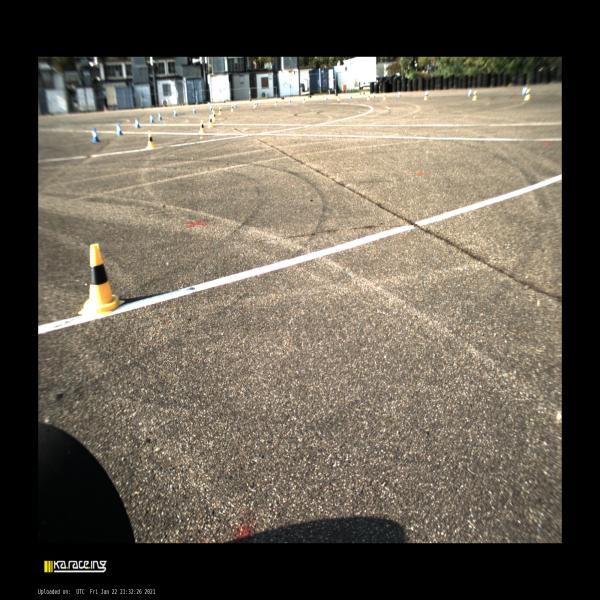blue_cone: (92, 126, 100, 142), (116, 122, 123, 136), (522, 86, 527, 96), (135, 118, 140, 128), (150, 114, 154, 123), (158, 112, 162, 120), (468, 88, 471, 96), (209, 104, 212, 112), (174, 109, 177, 116), (325, 94, 328, 100), (193, 106, 195, 114), (398, 91, 400, 98), (256, 99, 258, 106), (234, 101, 236, 108), (426, 90, 428, 96), (373, 92, 375, 98), (289, 96, 291, 102), (350, 93, 352, 98)
yellow_cone: (78, 244, 124, 318), (147, 131, 155, 149), (198, 119, 206, 134), (524, 88, 530, 100), (208, 115, 213, 128), (423, 92, 428, 101), (212, 111, 216, 122), (230, 104, 235, 112), (473, 90, 476, 101), (218, 107, 222, 114), (211, 109, 214, 118), (274, 100, 278, 106), (383, 93, 386, 100), (253, 102, 256, 108), (337, 96, 340, 101), (367, 95, 370, 100), (303, 98, 305, 103)
